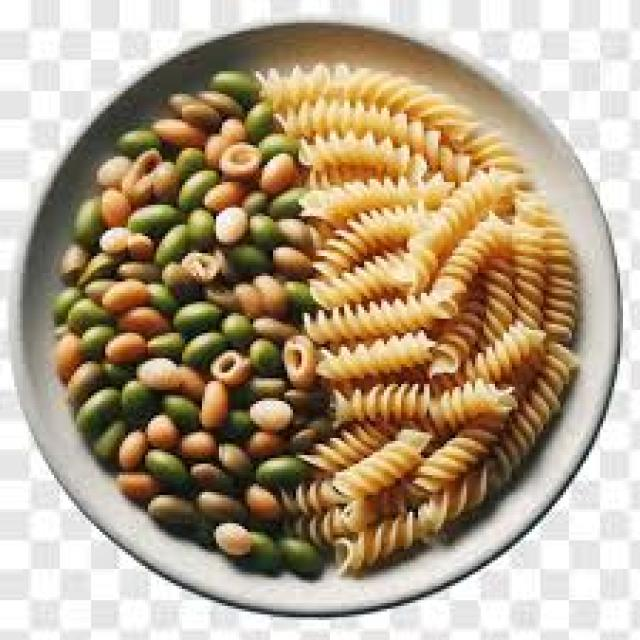pasta: (224, 27, 581, 549)
